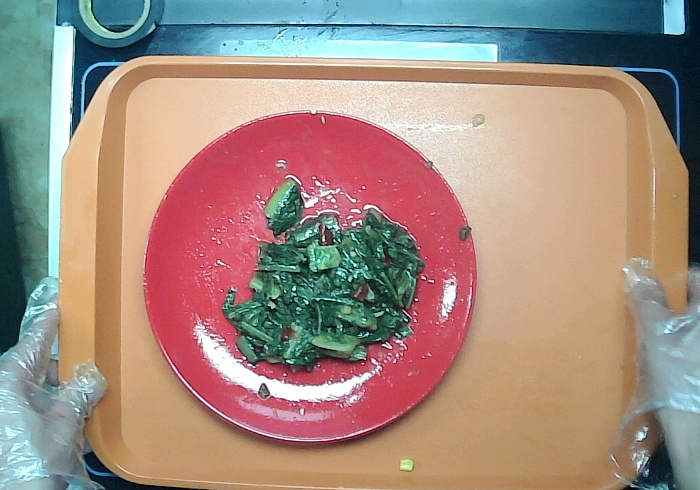HZYJPL-Hong_Se_Yuan_Pan: (141, 108, 478, 446)
